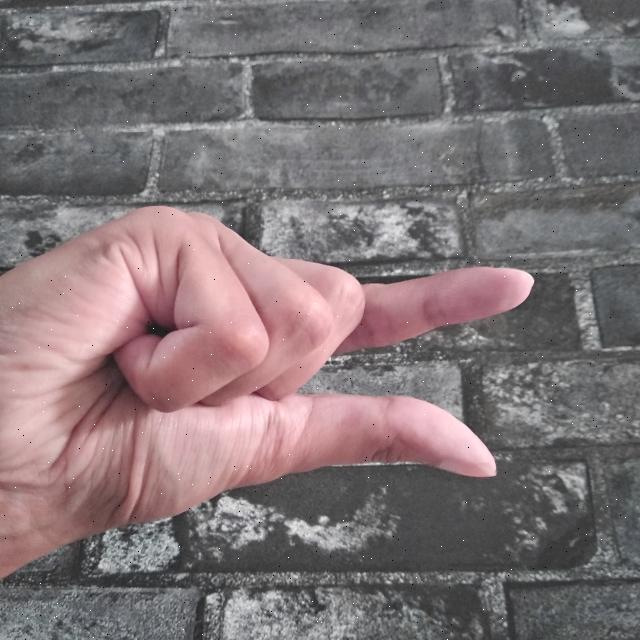G: (0, 200, 543, 579)
